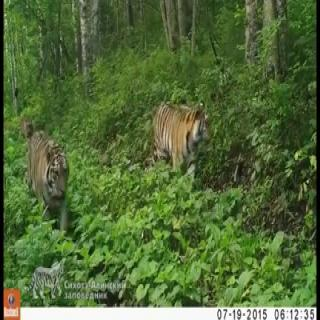Tiger: (20, 123, 75, 237), (145, 96, 211, 188)
